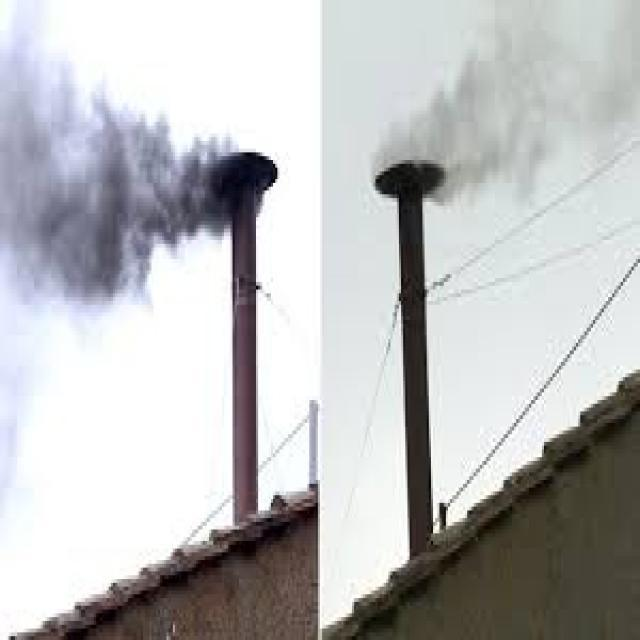Smoke: (0, 0, 240, 316), (370, 0, 640, 208)
